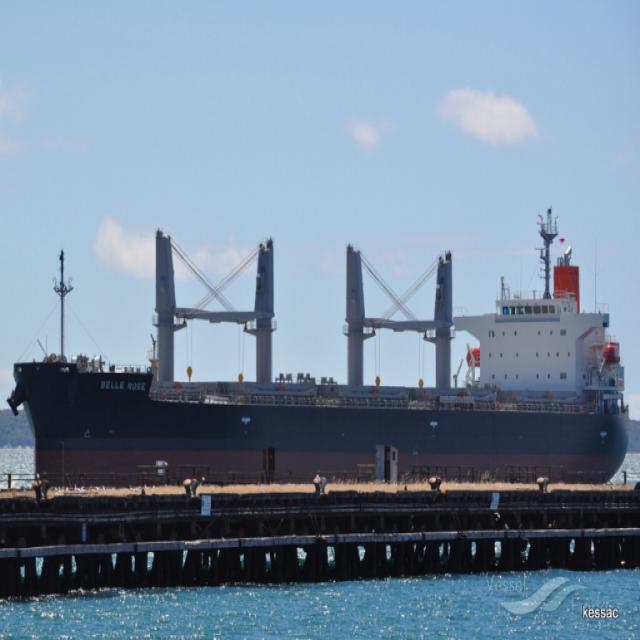OCR: (95, 373, 148, 398)
